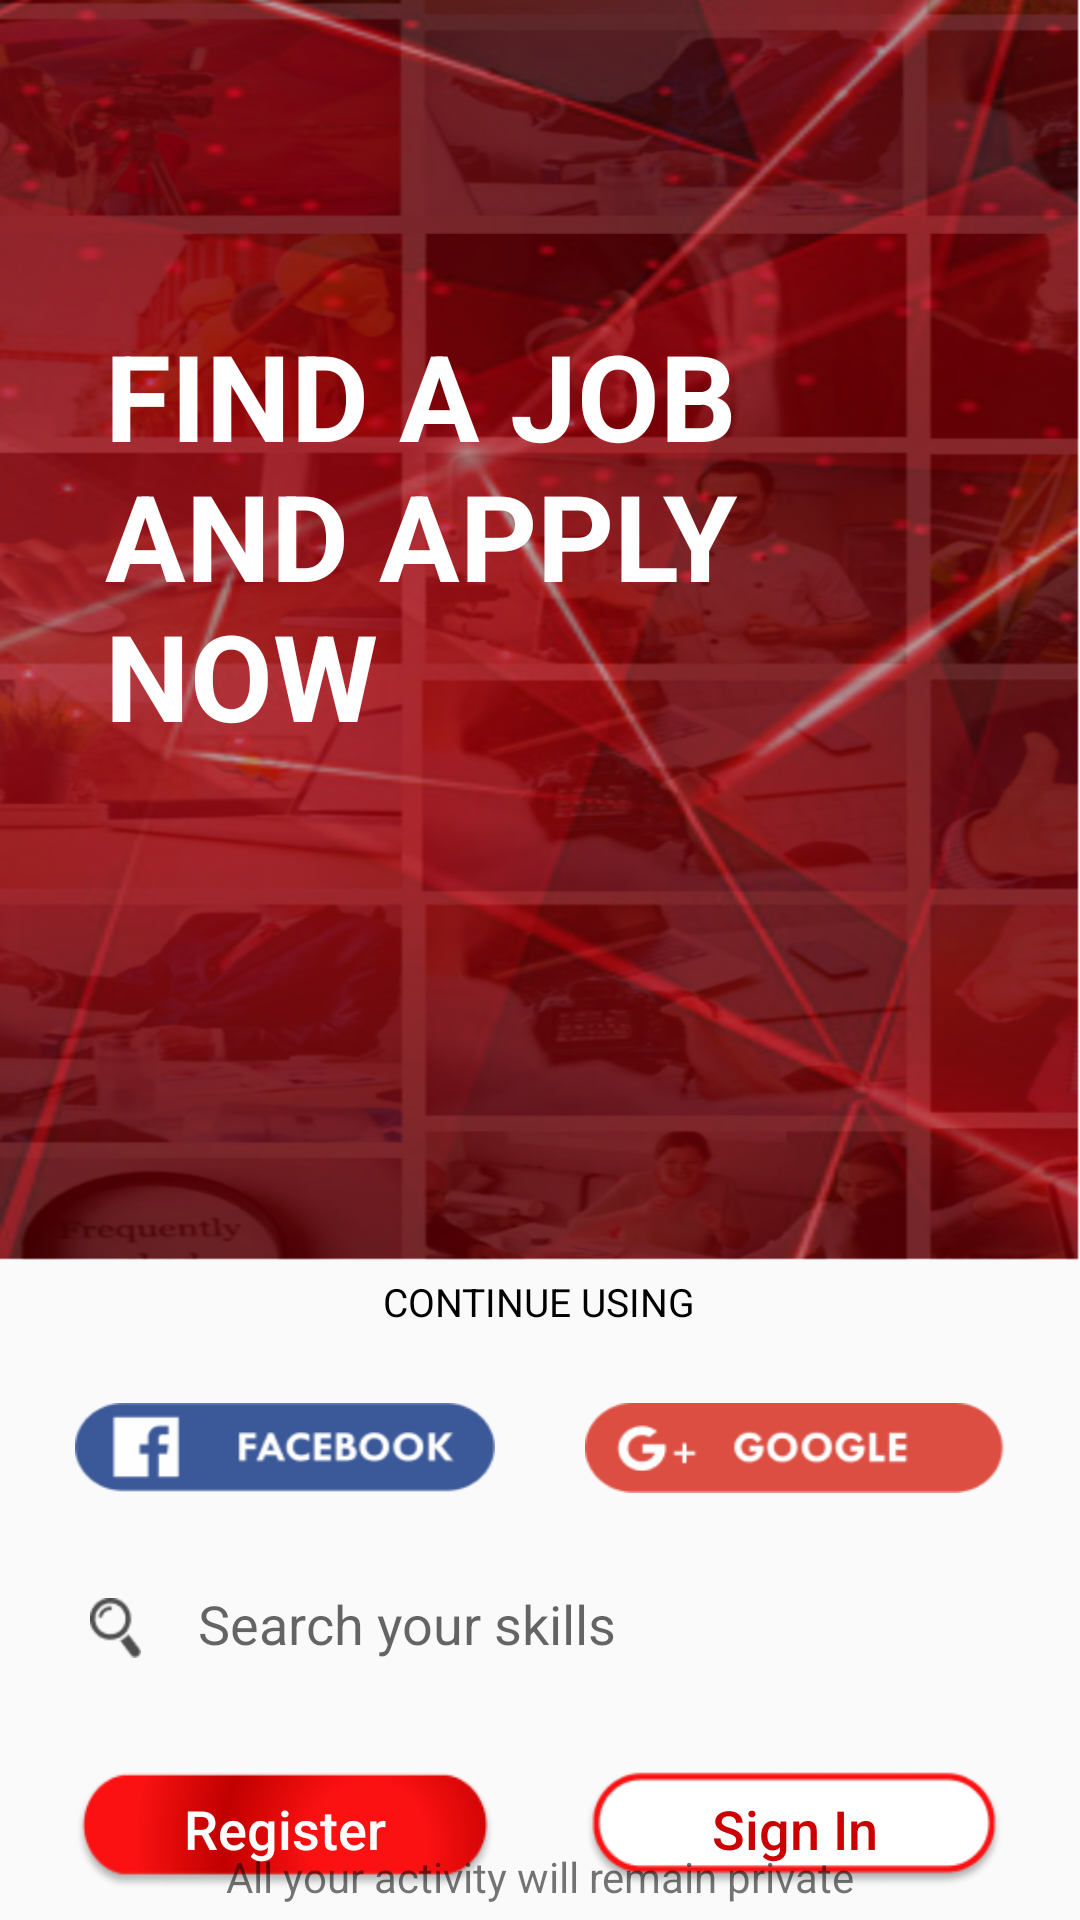

Icons on this 1080 × 1920 Android screen, each with its box as (x1, y1, x2, y2):
zoom: (90, 1598, 141, 1658)
